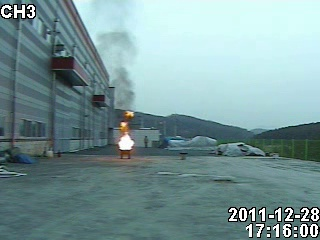fire: (117, 108, 135, 152)
